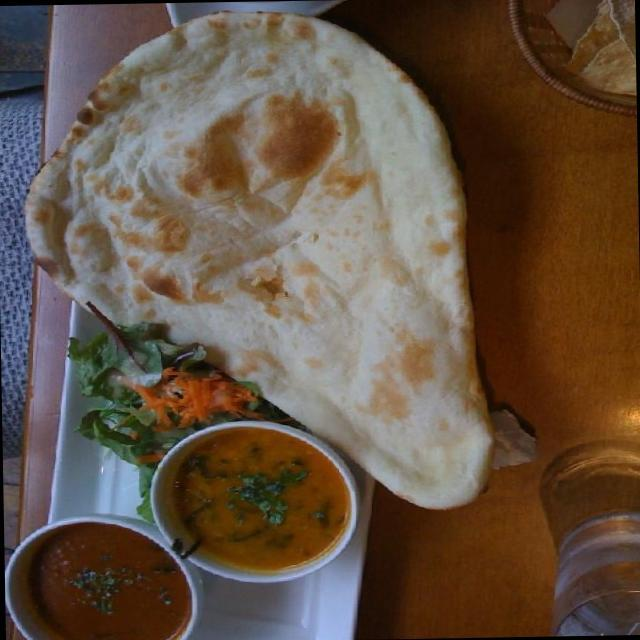Green Salad: (76, 334, 228, 469)
